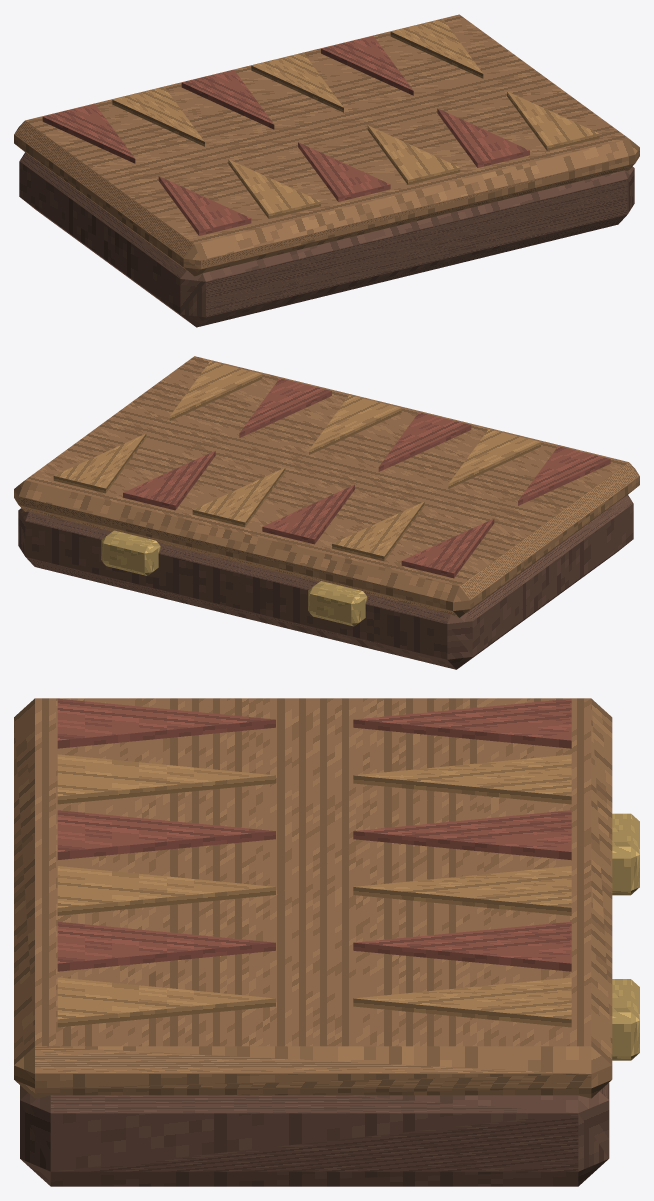
The model's file is backgammon.glb.
The picture shows the model from 3 angles, top to bottom: view 1: azimuth 30°, elevation 25°; view 2: azimuth 150°, elevation 25°; view 3: azimuth 270°, elevation 25°; orthographic projection. The views are drawn at different scales.
Visible parts, largest first — view 1: block_fitted lid, block_game case, block_inlaid triangular point (×12); view 2: block_fitted lid, block_game case, block_inlaid triangular point (×12), block_small catch (×2); view 3: block_fitted lid, block_inlaid triangular point (×12), block_game case, block_small catch (×2).
Part boxes in pixels (bbox=[...]): block_fitted lid: bbox=[14, 14, 639, 276]; block_game case: bbox=[19, 152, 634, 327]; block_inlaid triangular point (×12): bbox=[42, 19, 599, 235]; block_fitted lid: bbox=[14, 356, 639, 617]; block_game case: bbox=[18, 495, 633, 669]; block_inlaid triangular point (×12): bbox=[53, 361, 610, 578]; block_small catch (×2): bbox=[101, 530, 367, 626]; block_fitted lid: bbox=[14, 698, 612, 1098]; block_inlaid triangular point (×12): bbox=[57, 698, 571, 1027]; block_game case: bbox=[20, 1082, 609, 1186]; block_small catch (×2): bbox=[612, 813, 639, 1060].
Size of the model in its own units: 0.2777 by 0.0545 by 0.2009.
Materials: 1 (1 with a texture image).
